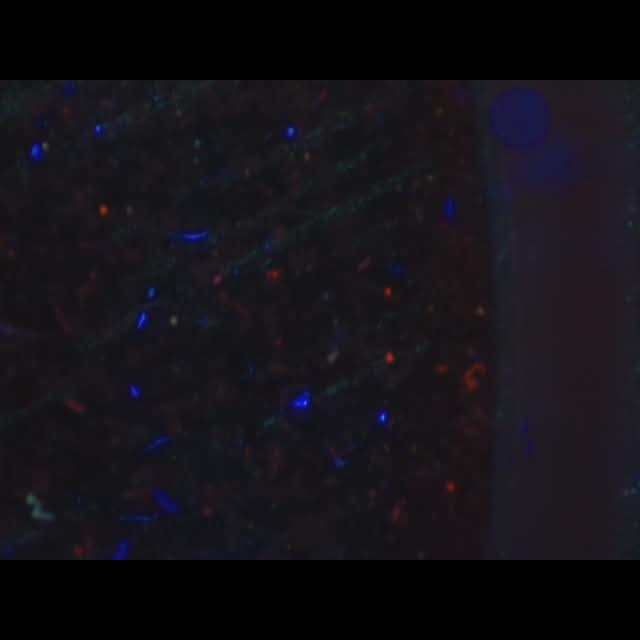Fibre: (26, 492, 54, 522)
